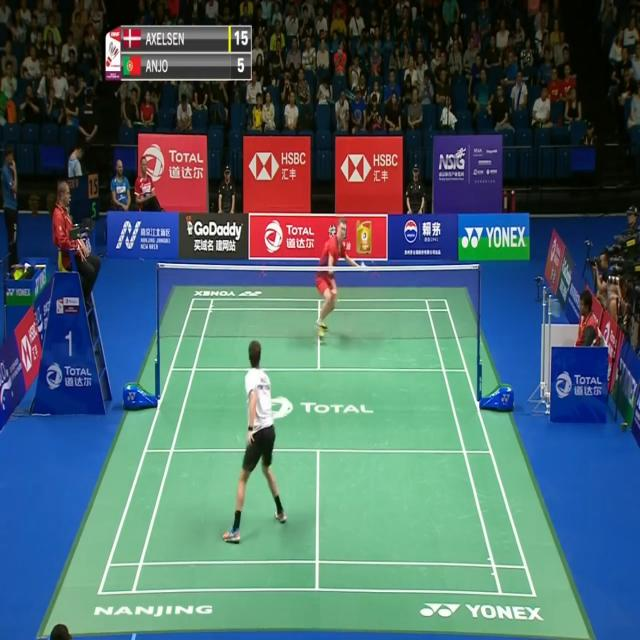Player1: (221, 338, 289, 546)
Player2: (311, 213, 371, 343)
